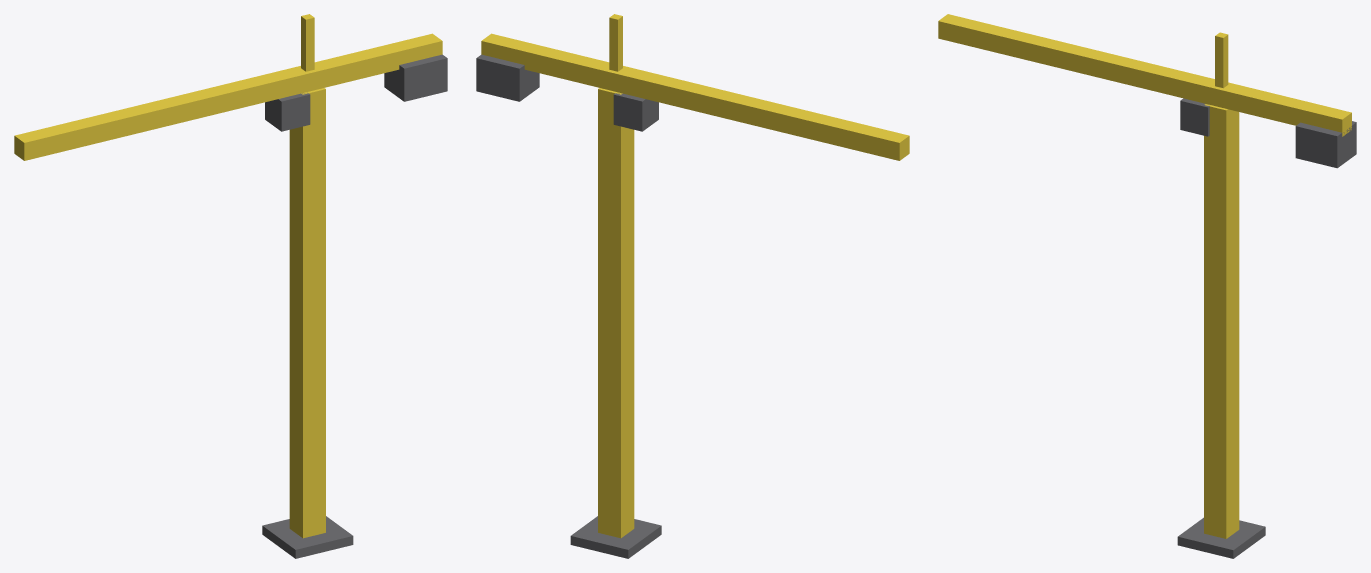
The model's file is grua.glb.
The picture shows the model from 3 angles, left to right: view 1: azimuth 30°, elevation 25°; view 2: azimuth 150°, elevation 25°; view 3: azimuth 330°, elevation 25°; orthographic projection. The views are drawn at different scales.
Parts seen in each view (by area): view 1: grua; view 2: grua; view 3: grua.
Part boxes in pixels (x1,y1,x2,y2): grua: [14, 14, 447, 558]; grua: [476, 14, 909, 558]; grua: [938, 14, 1356, 558].
Size of the model in its own units: 29 by 34.65 by 4.
